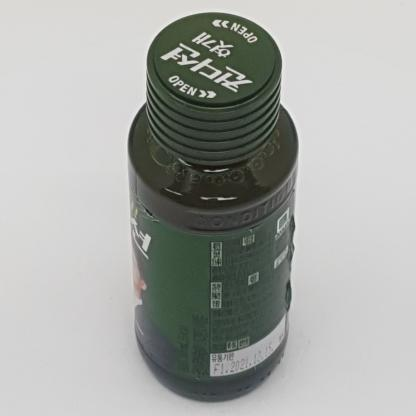CJ-----100ML: (127, 12, 299, 403)
